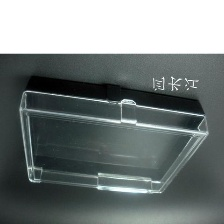plastic_box: (12, 82, 214, 201)
